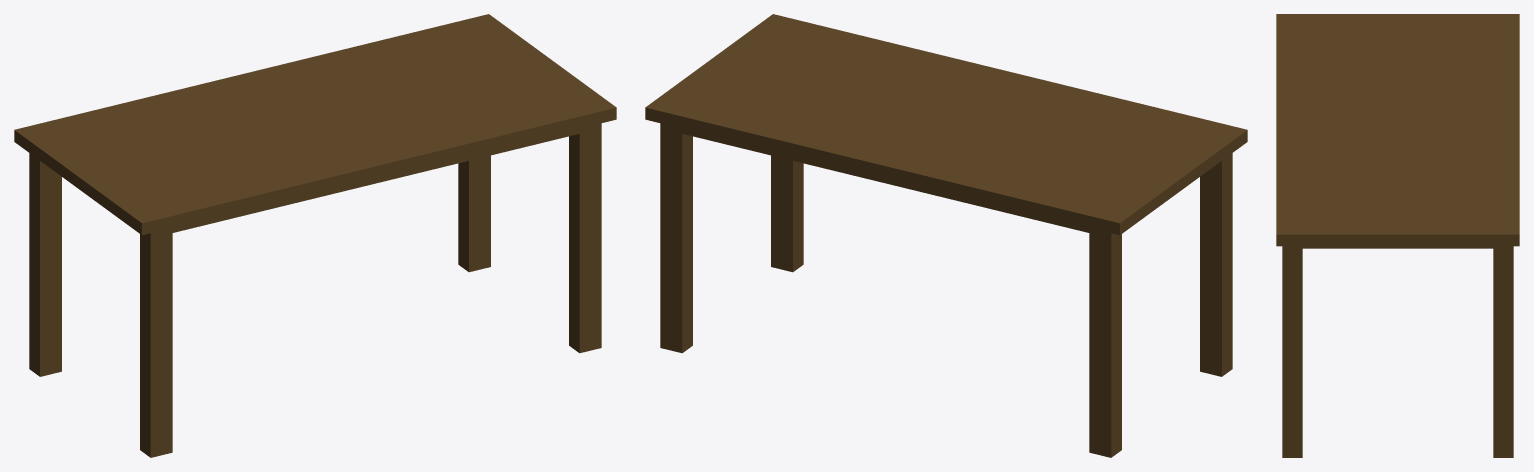
File: table.fbx
The picture shows the model from 3 angles, left to right: view 1: azimuth 30°, elevation 25°; view 2: azimuth 150°, elevation 25°; view 3: azimuth 270°, elevation 25°; orthographic projection. The views are drawn at different scales.
Parts seen in each view (by area): view 1: Table; view 2: Table; view 3: Table.
Part boxes in pixels (x1,y1,x2,y2): Table: (14, 14, 616, 457); Table: (645, 14, 1247, 457); Table: (1276, 14, 1519, 457).
Size of the model in its own units: 191 by 88.96 by 92.14.
